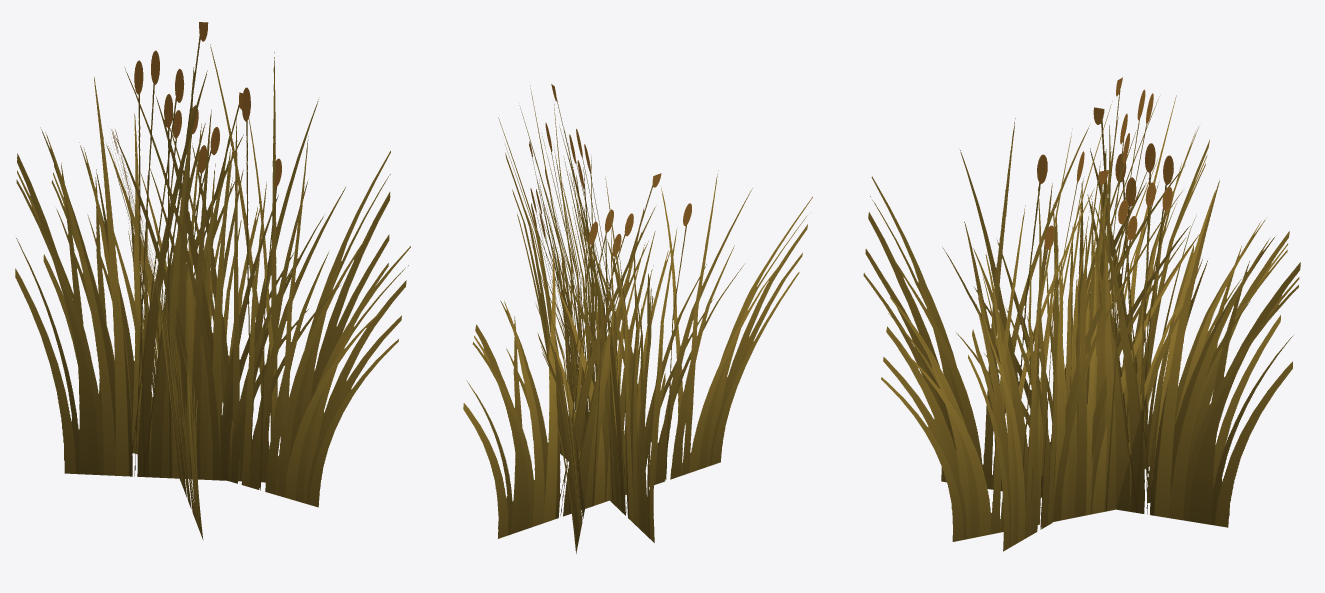
The model's file is savanna_grass_1_burnt2.glb.
3 renders of one model, left to right at view 1: azimuth 30°, elevation 25°; view 2: azimuth 150°, elevation 25°; view 3: azimuth 270°, elevation 25°, orthographic. The views are drawn at different scales.
Parts seen in each view (by area): view 1: savanna_grass_1_burnt2; view 2: savanna_grass_1_burnt2; view 3: savanna_grass_1_burnt2.
Boxes of the visible parts, <box> form: savanna_grass_1_burnt2: <box>15,22,410,539</box>; savanna_grass_1_burnt2: <box>463,84,812,553</box>; savanna_grass_1_burnt2: <box>863,77,1300,551</box>.
Bounding box in the file's own units: 0.7394 × 1.02 × 0.9375.
Materials: 1 (1 with a texture image).
